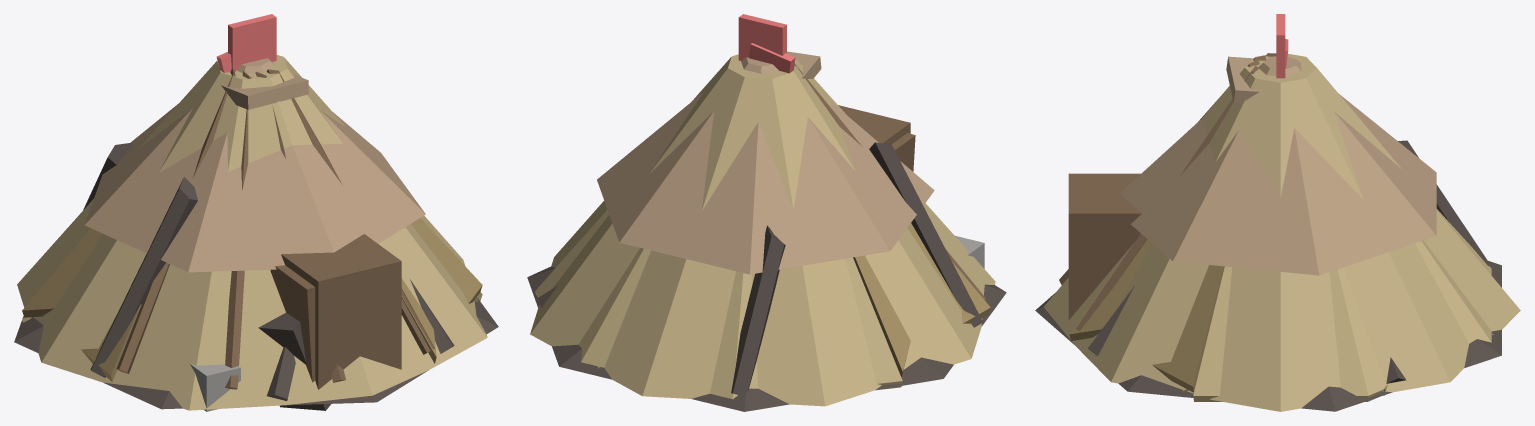
The model's file is sleeping_hut_stages.glb.
3 views of the same model, side by side, from view 1: azimuth 30°, elevation 25°; view 2: azimuth 150°, elevation 25°; view 3: azimuth 270°, elevation 25° (orthographic).
Parts seen in each view (by area): view 1: Stage_Intact, Stage_Damaged, Stage_Critical, Stage_Rubble; view 2: Stage_Intact, Stage_Damaged, Stage_Critical, Stage_Rubble; view 3: Stage_Intact, Stage_Damaged, Stage_Rubble, Stage_Critical.
Part boxes in pixels (x1=…): Stage_Intact: x1=17, y1=14, x2=487, y2=410; Stage_Damaged: x1=22, y1=52, x2=482, y2=411; Stage_Critical: x1=83, y1=142, x2=478, y2=410; Stage_Rubble: x1=14, y1=297, x2=498, y2=409; Stage_Intact: x1=530, y1=14, x2=995, y2=406; Stage_Damaged: x1=535, y1=43, x2=990, y2=399; Stage_Critical: x1=538, y1=142, x2=982, y2=395; Stage_Rubble: x1=527, y1=266, x2=1006, y2=411; Stage_Intact: x1=1044, y1=14, x2=1520, y2=411; Stage_Damaged: x1=1059, y1=39, x2=1491, y2=401; Stage_Rubble: x1=1035, y1=261, x2=1501, y2=411; Stage_Critical: x1=1088, y1=140, x2=1493, y2=397.
Size of what is drawn, in the model's own units: 4.3 by 3.11 by 4.35.
